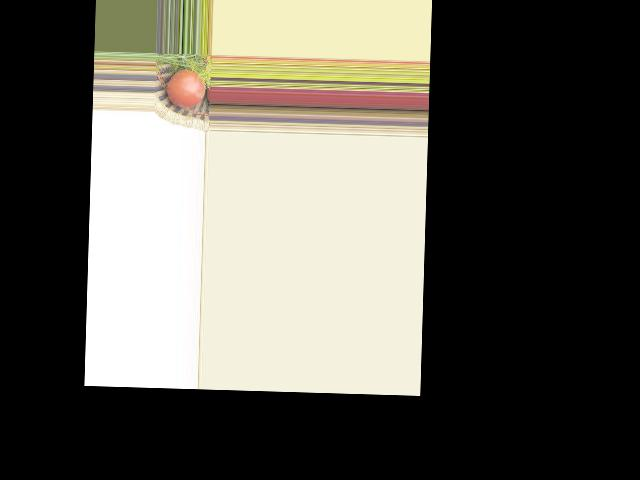tomato: (166, 68, 205, 108)
